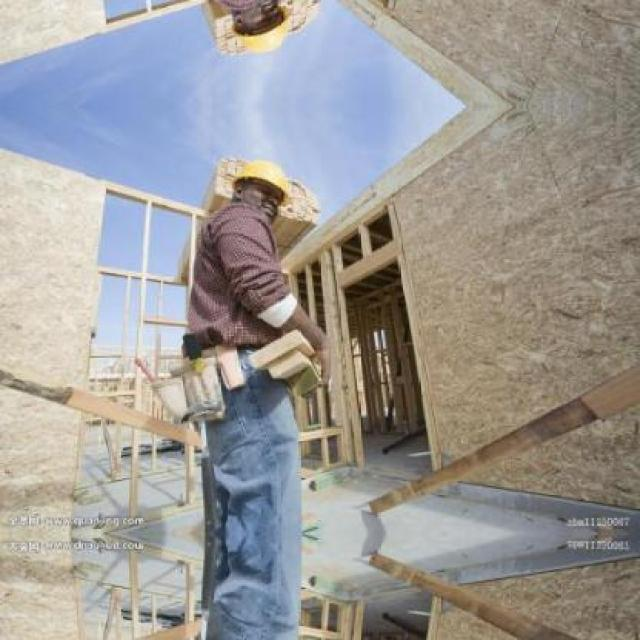helmet: (230, 156, 287, 228), (229, 0, 288, 57)
